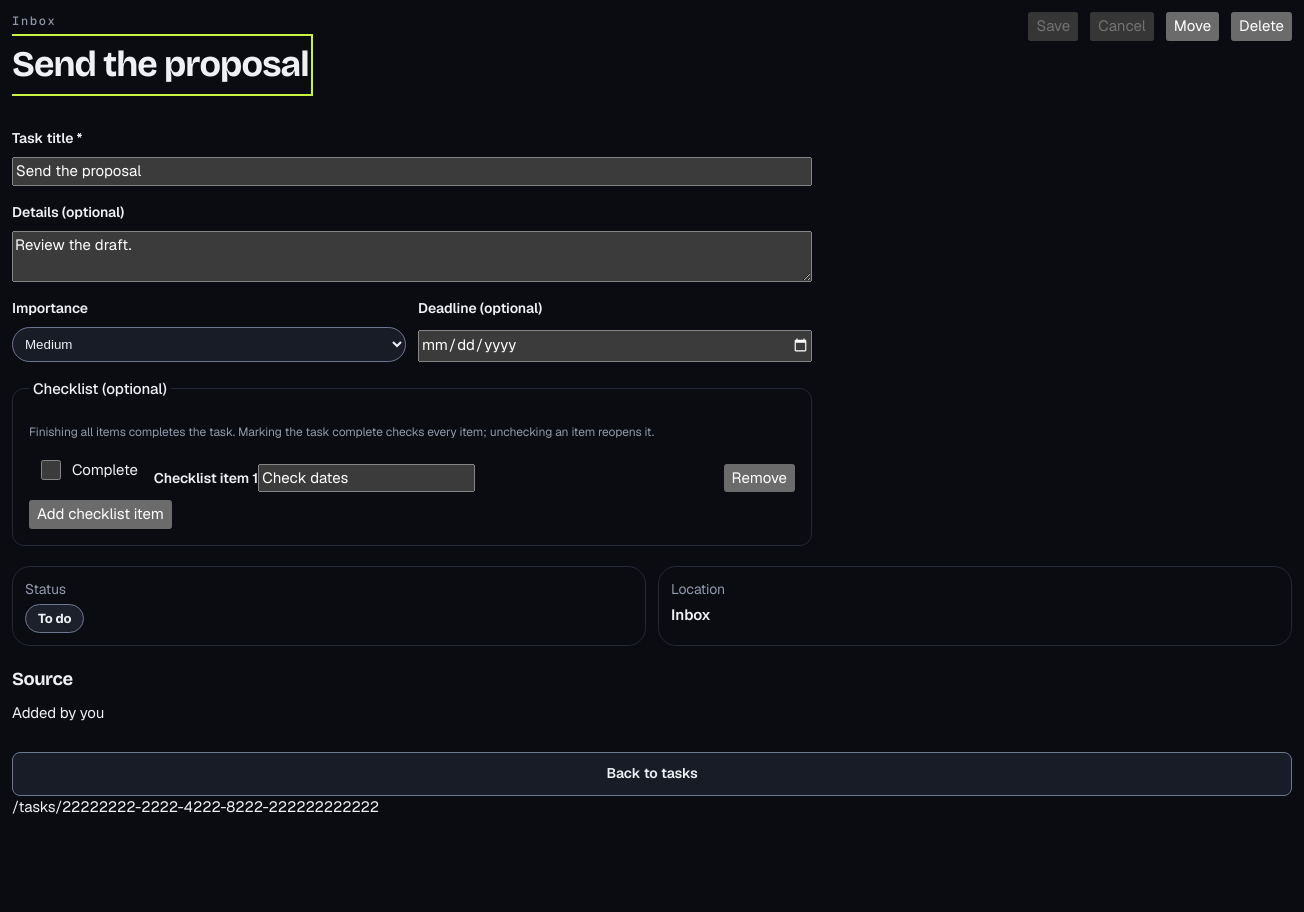
TaskDetailPage › submits only changed fields, keeps a verified receipt, and warns separately when refresh fails
Check: the heading "Send the proposal" is shown, box x1=12 y1=38 x2=309 y2=92
Clear the field labelled "Task title *" at [412, 171], box x1=12 y1=157 x2=812 y2=186
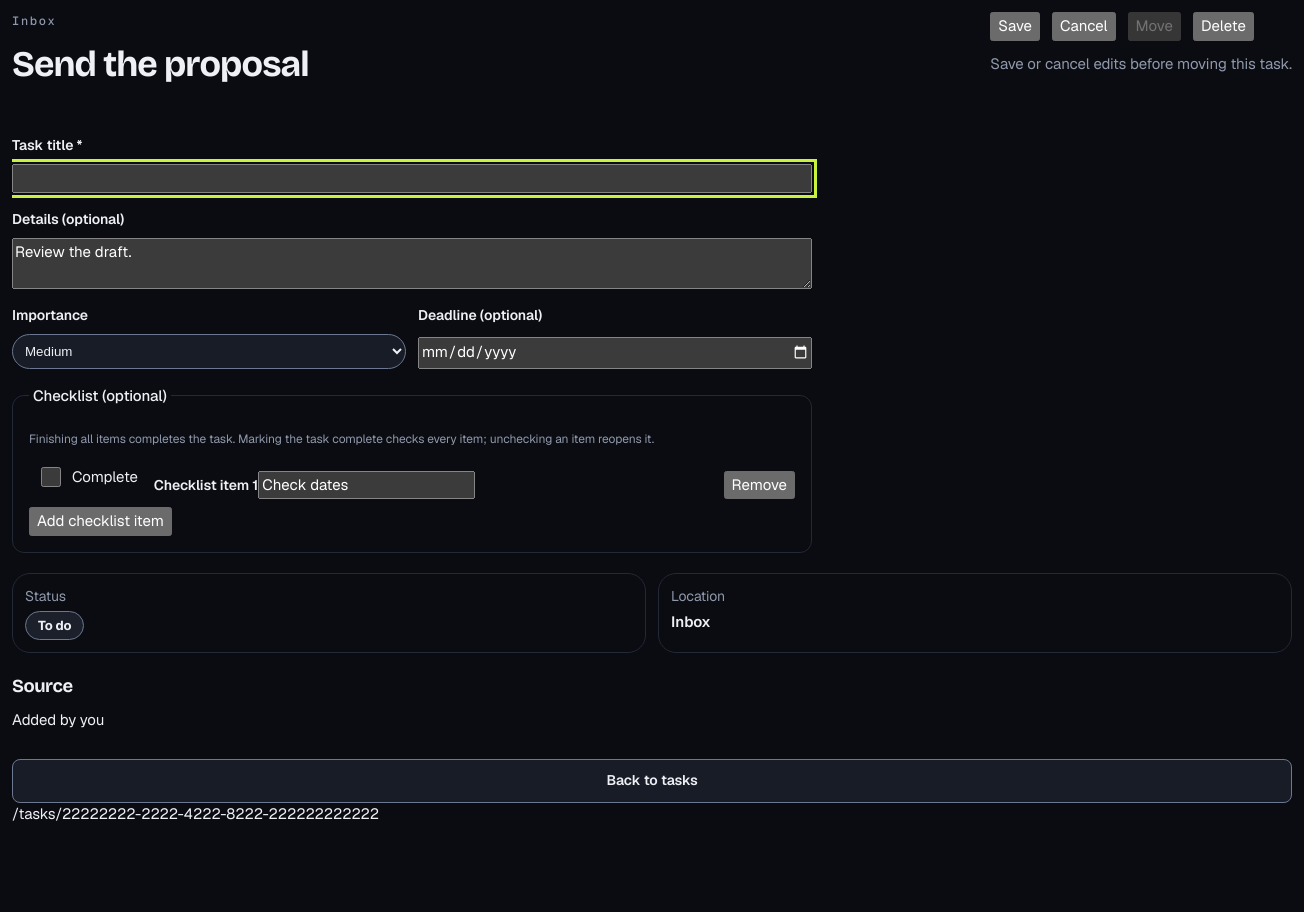
Type "Send the updated proposal" into the field labelled "Task title *".
click(412, 178); type("Send the updated proposal")  # box x1=12 y1=164 x2=812 y2=192
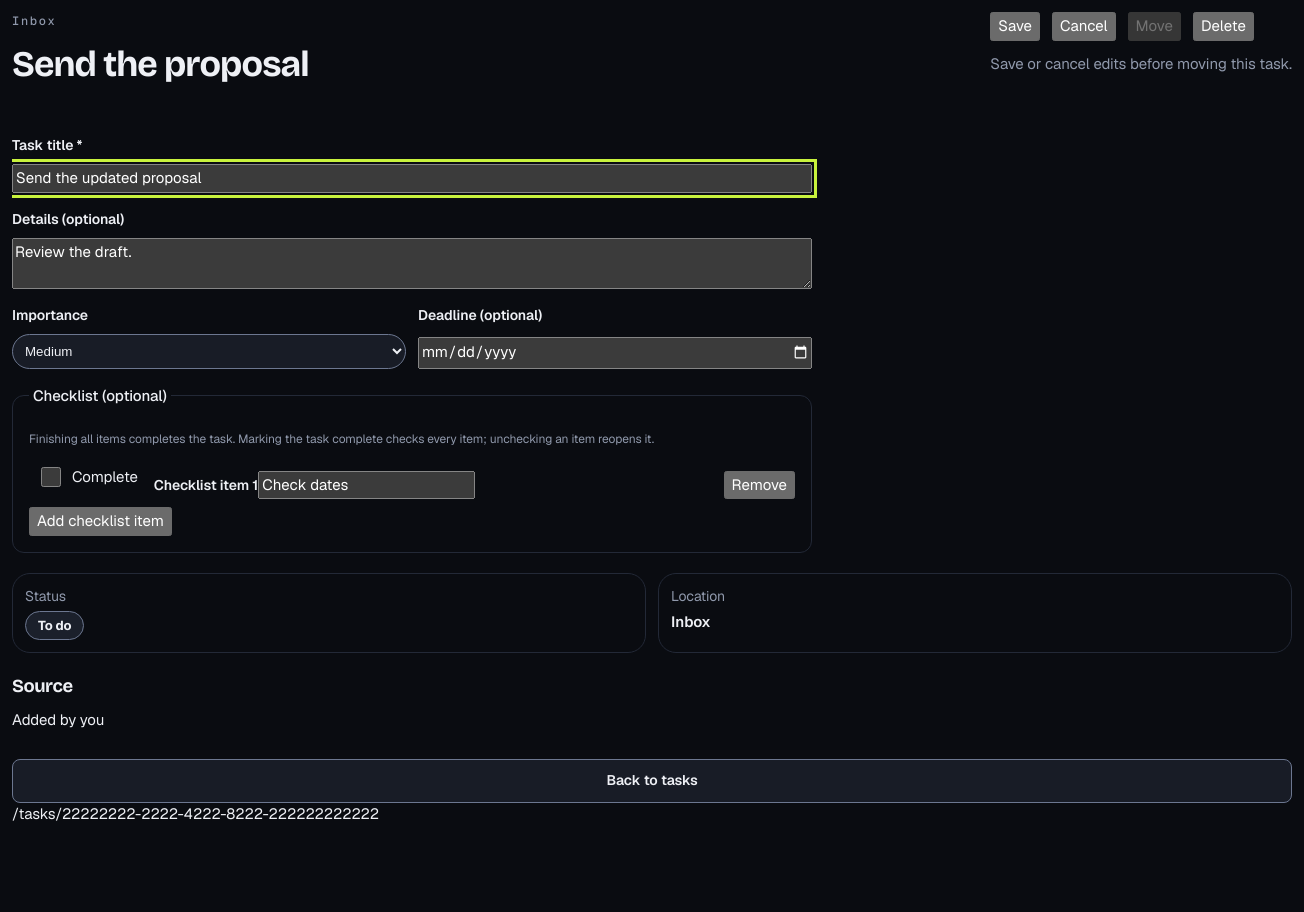
Click the button with test id "task-detail-save".
click(1015, 26)  # box x1=990 y1=12 x2=1040 y2=40
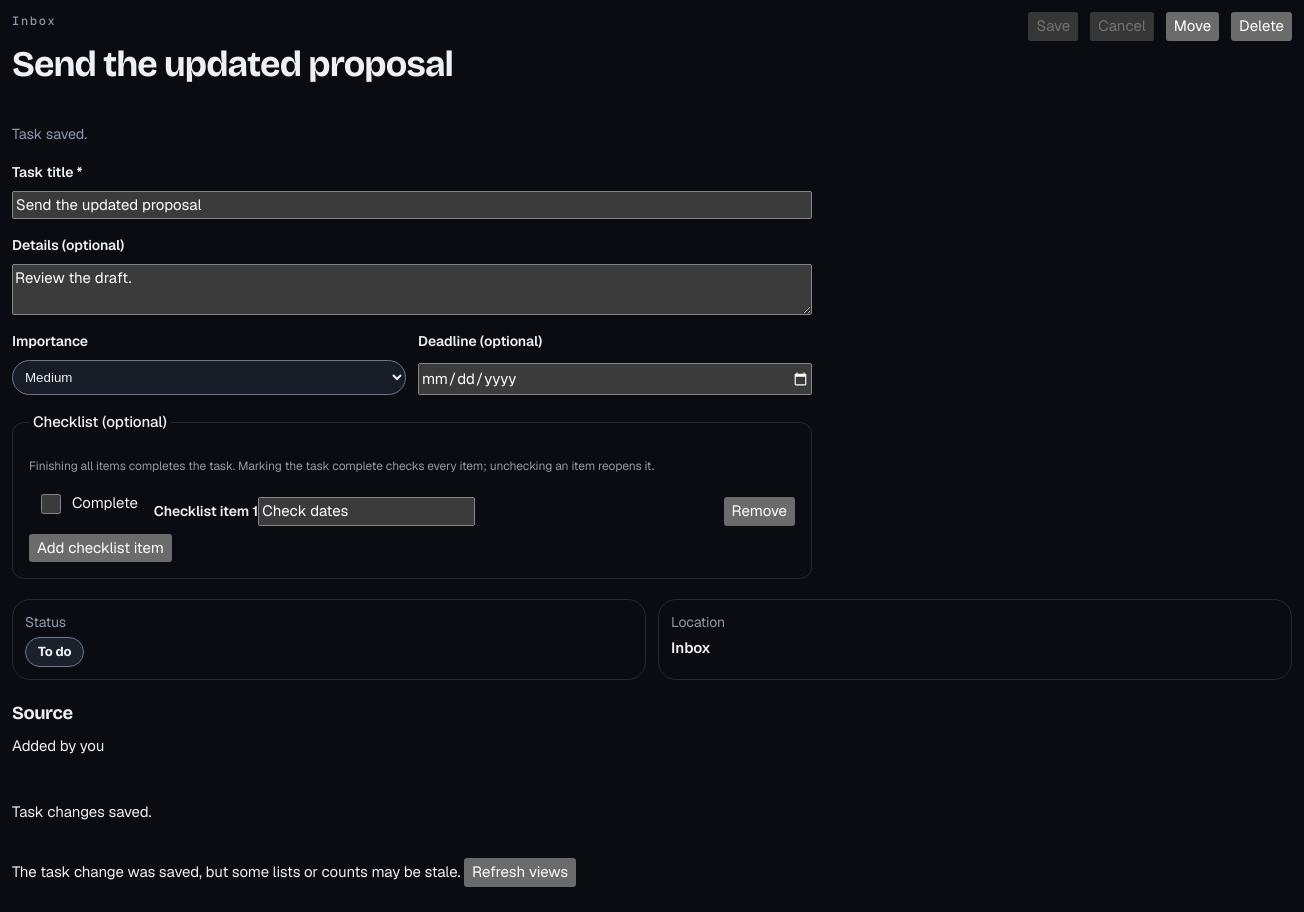
Check: the message with test id "task-refresh-warning" shows "some lists or counts may be stale", box x1=12 y1=862 x2=464 y2=881
Check: the heading "Send the updated proposal" is shown, box x1=12 y1=38 x2=453 y2=92
